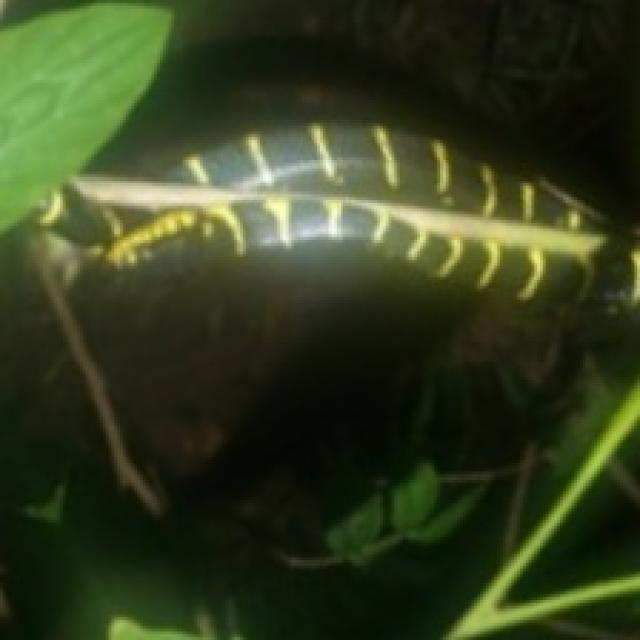mangrove cat snake: (51, 123, 606, 300)
